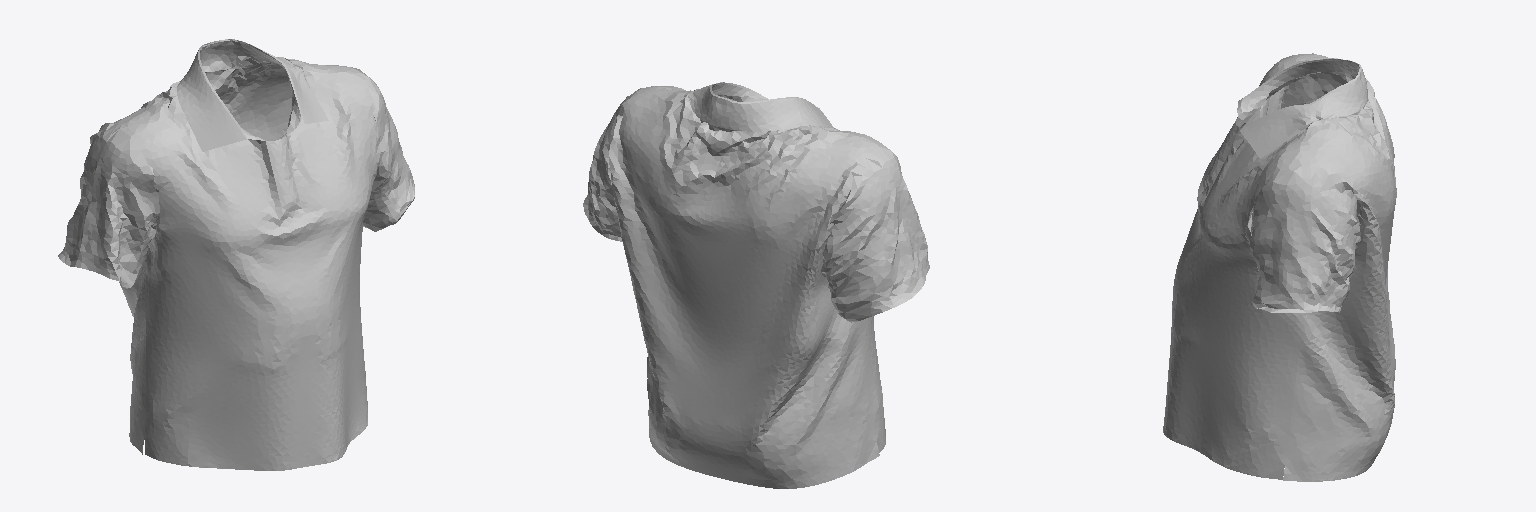
Rendered from Medium_Short.obj.
3 views of the same model, side by side, from view 1: azimuth 30°, elevation 25°; view 2: azimuth 150°, elevation 25°; view 3: azimuth 270°, elevation 25° (orthographic).
Parts seen in each view (by area): view 1: polo3-30.005; view 2: polo3-30.005; view 3: polo3-30.005.
Boxes of the visible parts, x1,y1,x2,y2 form: polo3-30.005: [58, 39, 414, 470]; polo3-30.005: [583, 82, 929, 488]; polo3-30.005: [1163, 53, 1396, 481].
Size of the model in its own units: 0.6235 by 0.6579 by 0.3746.